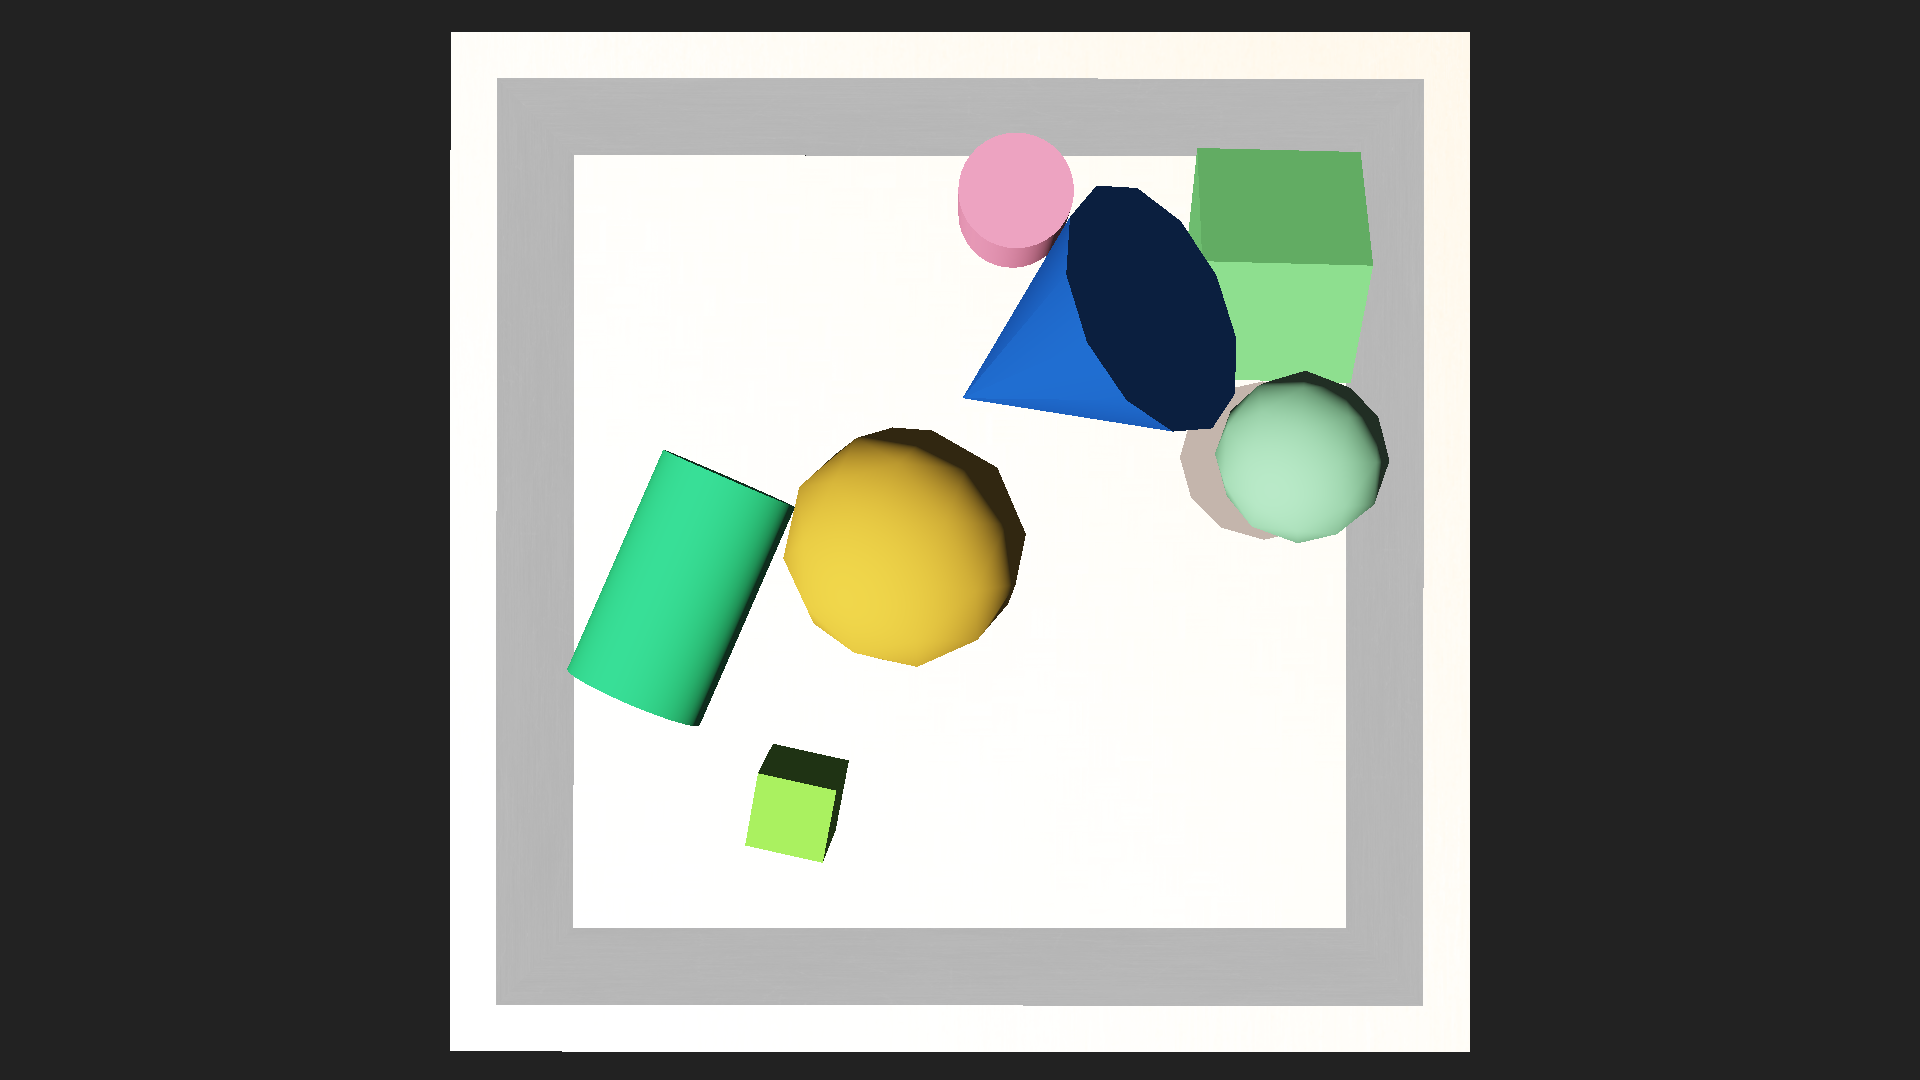3: (1178, 128, 1378, 389), (742, 741, 849, 865)
cone: (555, 447, 799, 732)
cylinder: (832, 99, 1296, 568)
sphere: (782, 423, 1026, 667), (1215, 371, 1387, 543)
